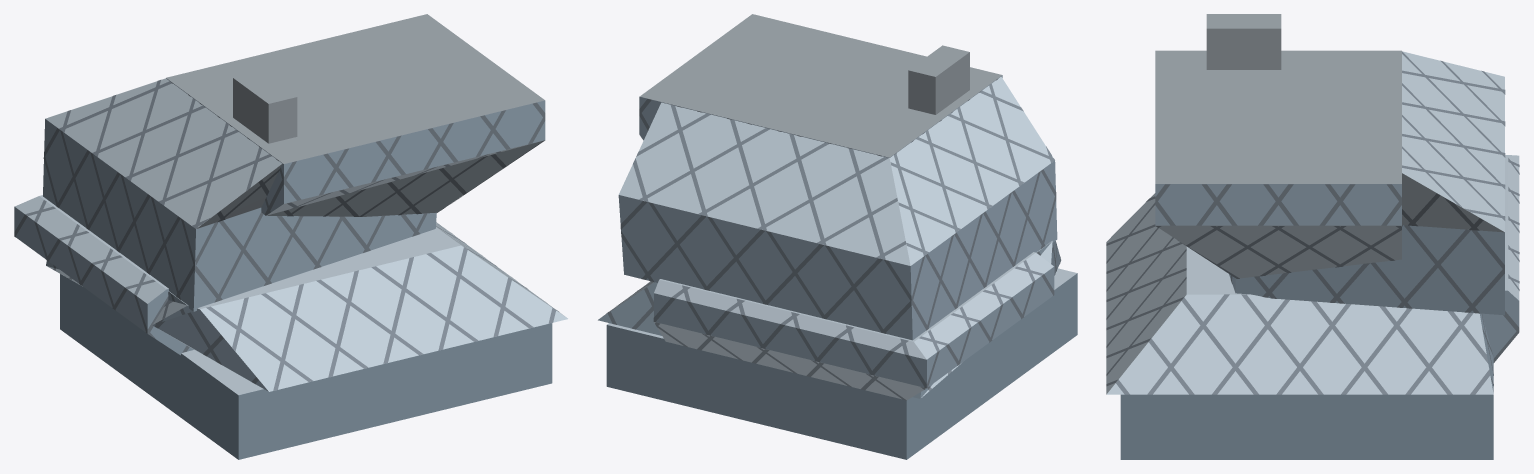
File: sea-central-library.glb
3 renders of one model, left to right at view 1: azimuth 30°, elevation 25°; view 2: azimuth 150°, elevation 25°; view 3: azimuth 270°, elevation 25°, orthographic. The views are drawn at different scales.
Parts seen in each view (by area): view 1: Seattle Central Library; view 2: Seattle Central Library; view 3: Seattle Central Library.
Part boxes in pixels (<box>): Seattle Central Library: <box>14,14,567,459</box>; Seattle Central Library: <box>598,14,1077,459</box>; Seattle Central Library: <box>1106,14,1519,459</box>.
Bounding box in the file's own units: 75.08 × 62 × 72.07.
